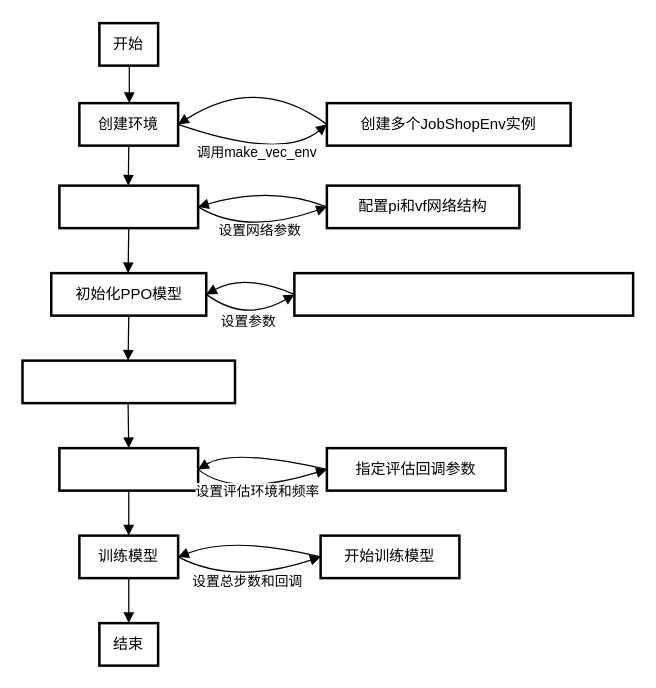
Image size: 656x688. Some labels were removed from this diagram. The shapes that lost their labels are listed below. From the top down, each one's centre as x and y in pixels, then its label:
point 128,206: 定义网络架构
point 463,293: 设备, 学习率, 折扣因子, 批量大小等
point 128,381: 可选: 加载预训练模型
point 128,468: 定义评估回调
